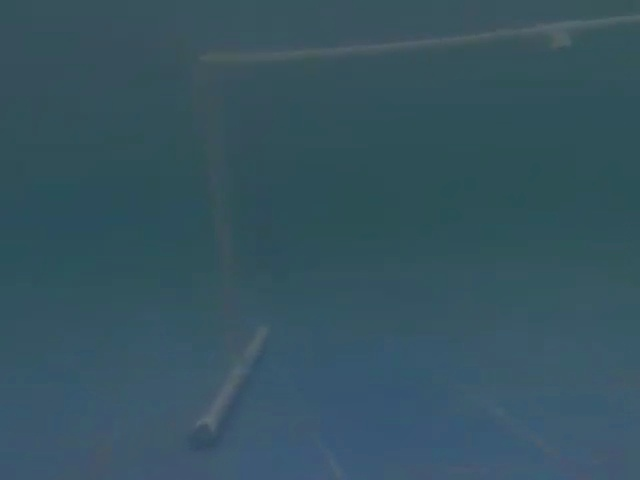gate: (135, 9, 640, 480)
